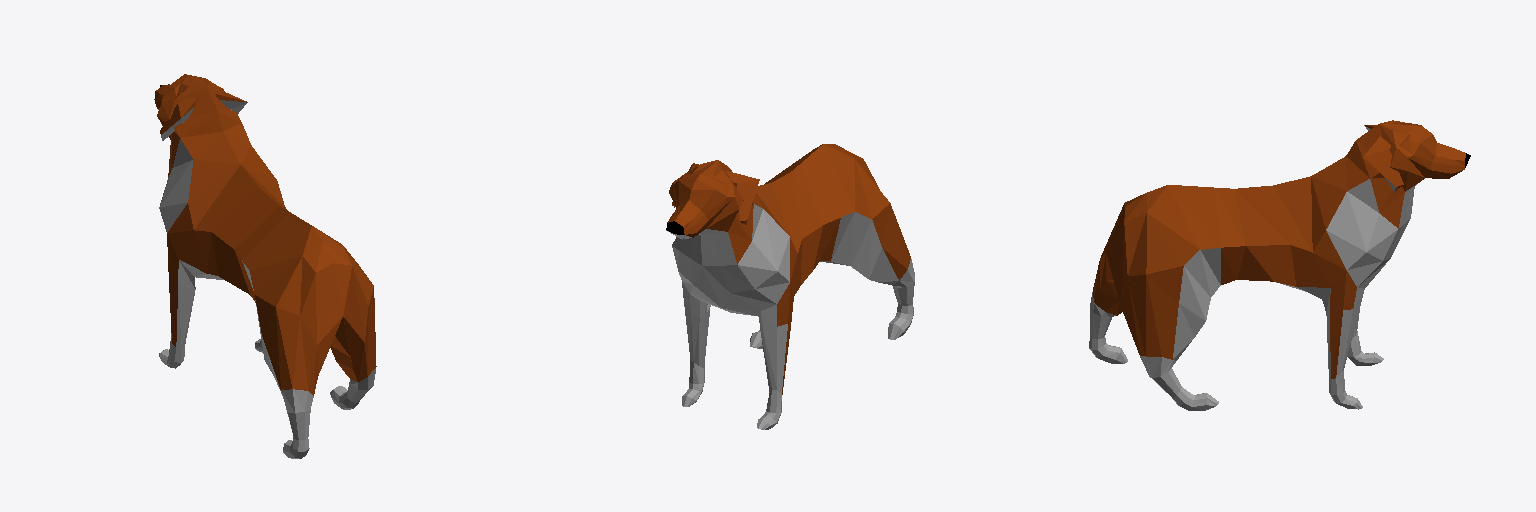
File: golden.obj
3 renders of one model, left to right at view 1: azimuth 30°, elevation 25°; view 2: azimuth 150°, elevation 25°; view 3: azimuth 270°, elevation 25°, orthographic.
Parts seen in each view (by area): view 1: Cylinder; view 2: Cylinder; view 3: Cylinder.
Boxes of the visible parts, x1=… form: Cylinder: x1=154, y1=74, x2=376, y2=458; Cylinder: x1=666, y1=144, x2=914, y2=429; Cylinder: x1=1089, y1=120, x2=1470, y2=410.
Bounding box in the file's own units: 1.65 × 3.65 × 4.77.